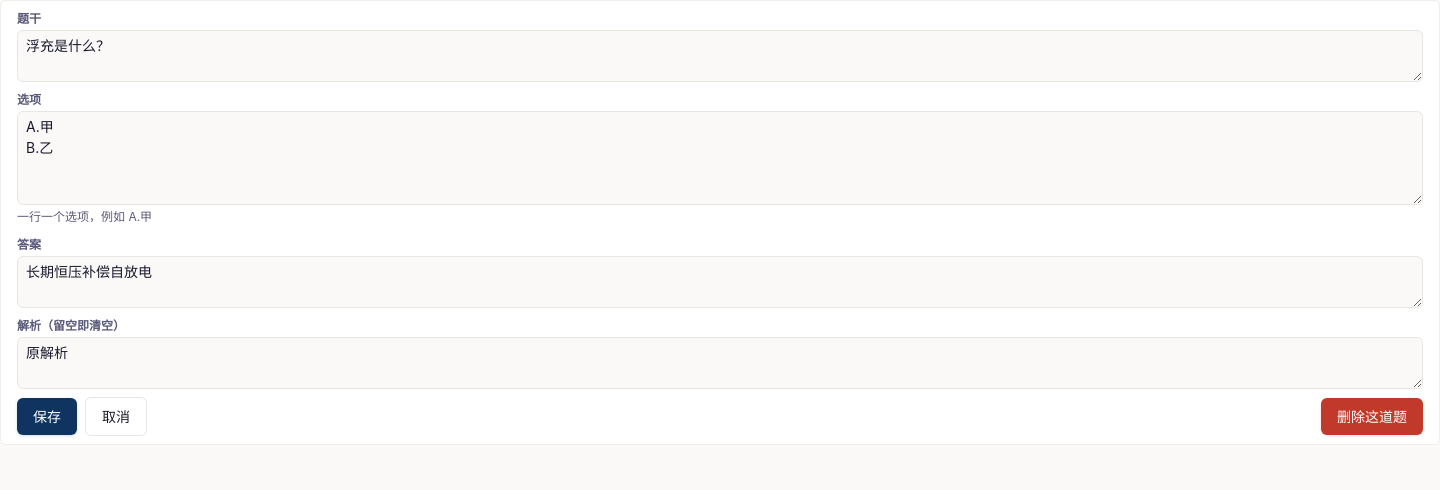
保存 › ★ 选择题选项少于 2 个时不发请求，并提示
# 第 2 个是选项
Replace the text in the text box labelled "选项 一行一个选项，例如 A.甲" with "A.只剩一个": (720, 158) [17,111,1423,205]
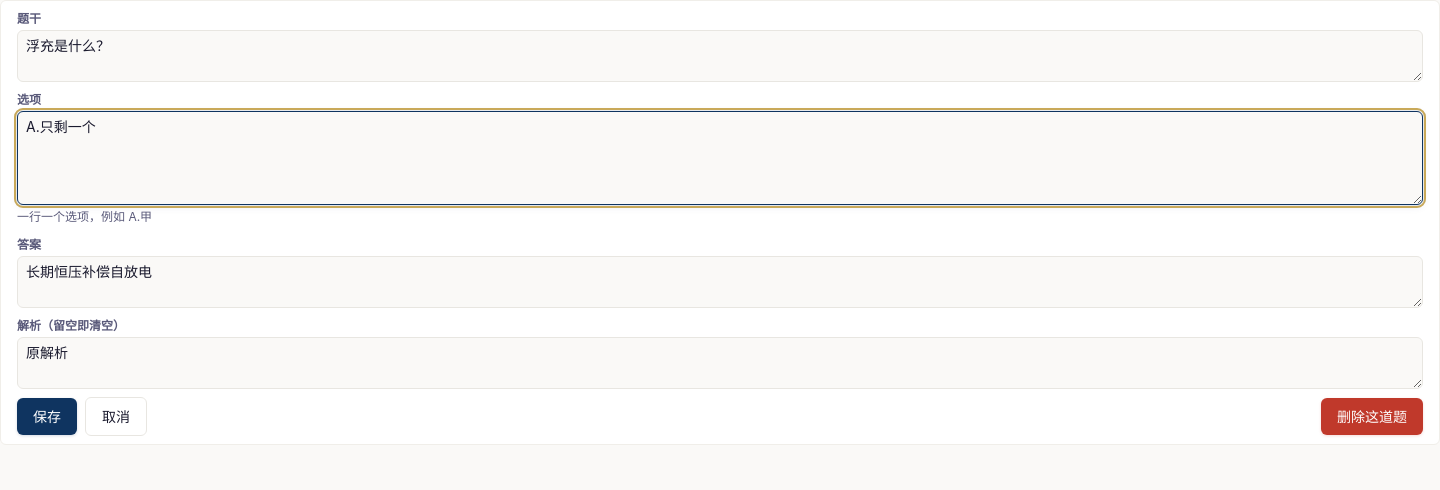
Click the button "保存": (47, 416) [17,398,77,435]
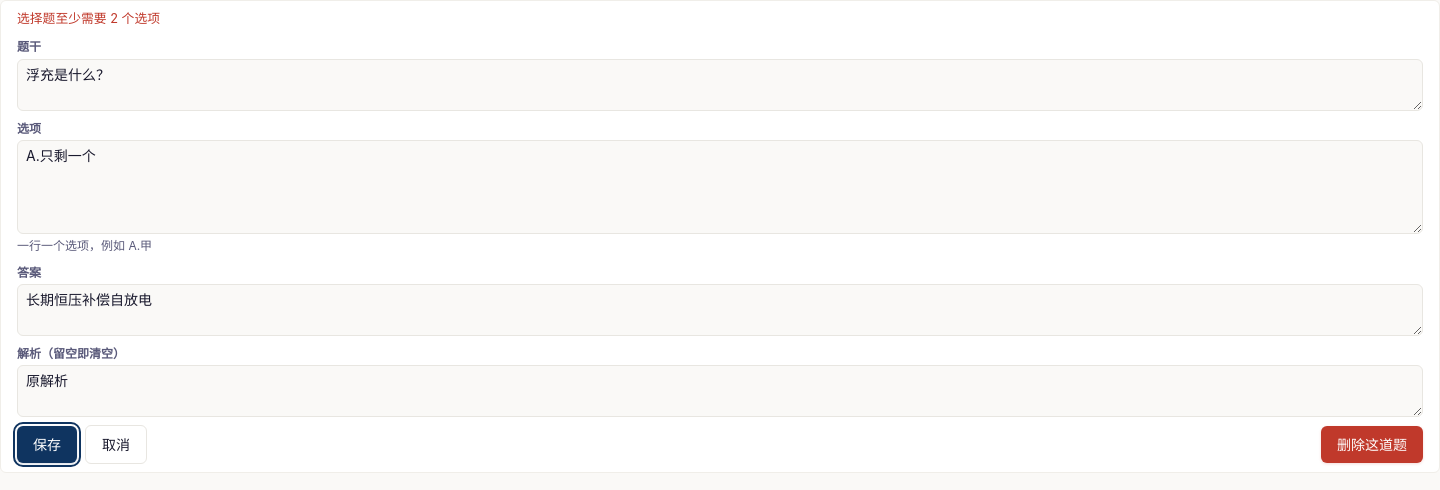
Expected: the message shows "至少需要 2 个选项", [17,11,160,26]
